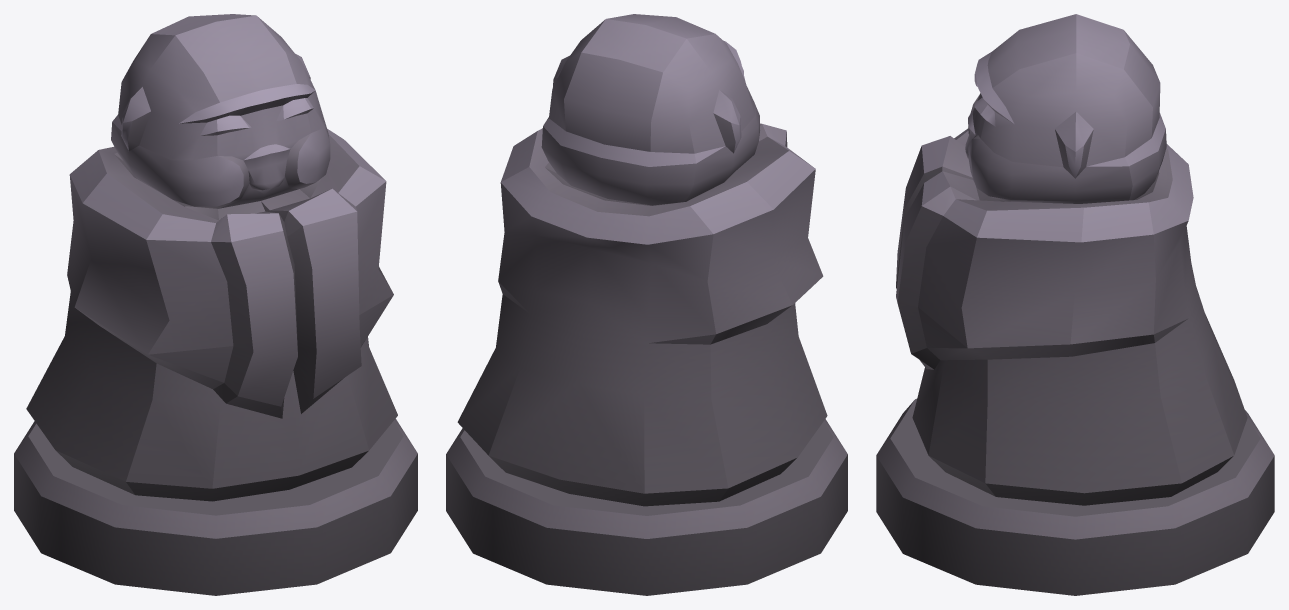
File: statue_monk.glb
3 views of the same model, side by side, from view 1: azimuth 30°, elevation 25°; view 2: azimuth 150°, elevation 25°; view 3: azimuth 270°, elevation 25° (orthographic).
Parts seen in each view (by area): view 1: statue_monk; view 2: statue_monk; view 3: statue_monk.
Part boxes in pixels (x1,y1,x2,y2): statue_monk: (14,14,417,595); statue_monk: (446,14,847,595); statue_monk: (876,14,1274,595).
Bounding box in the file's own units: 1.82 × 2.43 × 1.82.
1 material, 1 textured.
